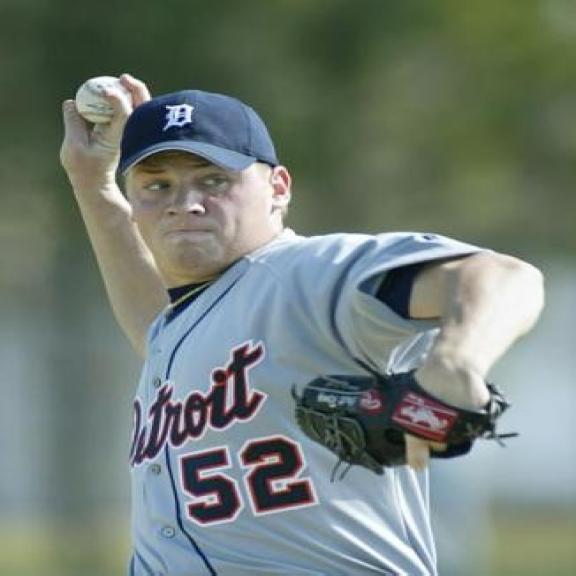face: (111, 145, 309, 280)
